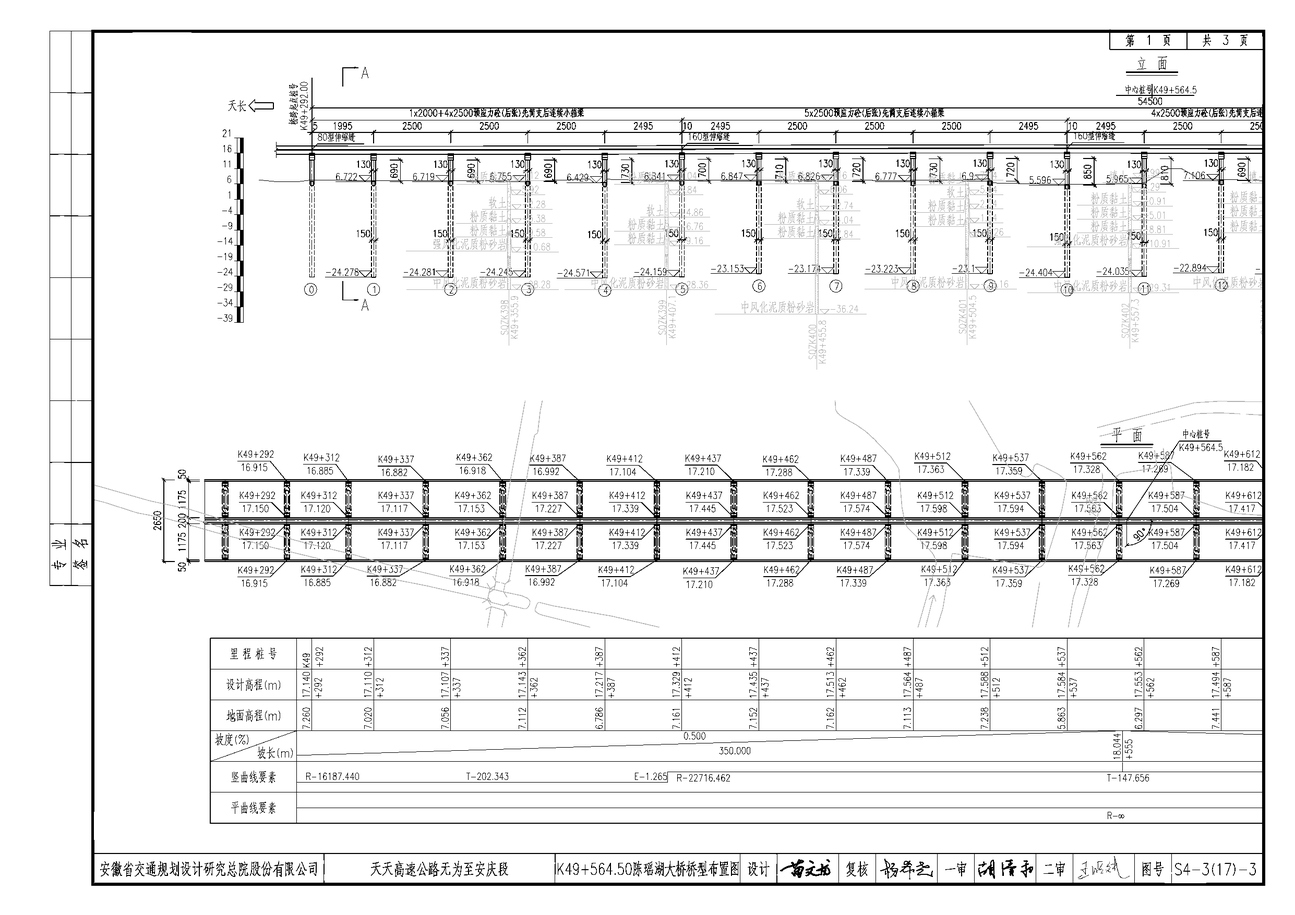A: (201, 46, 1270, 365)
